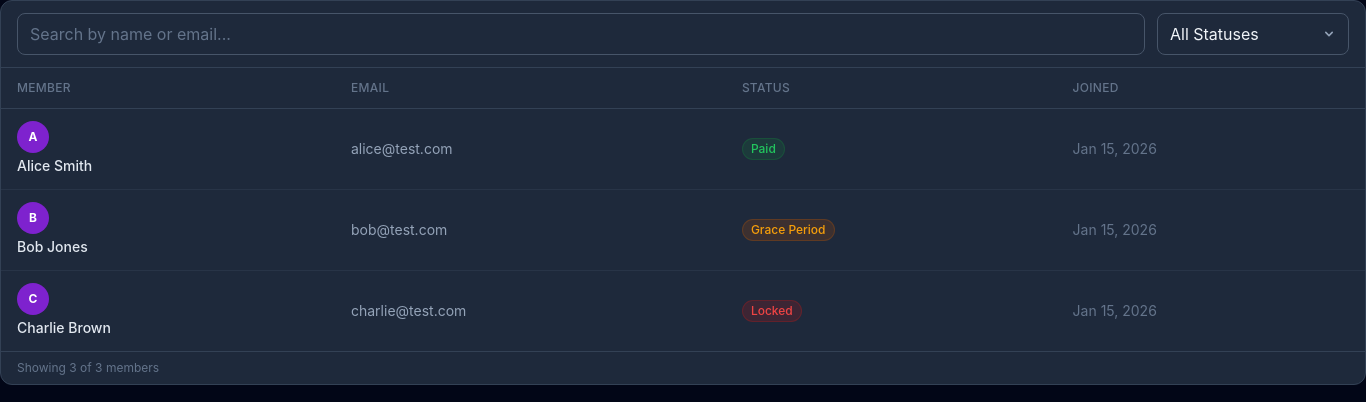
Scenario: MemberTable — translated strings › renders translated no-match state when search finds nothing
Type "zzzzz" into the field with placeholder "Search by name or email..." at (581, 34), box [17,13,1145,55]
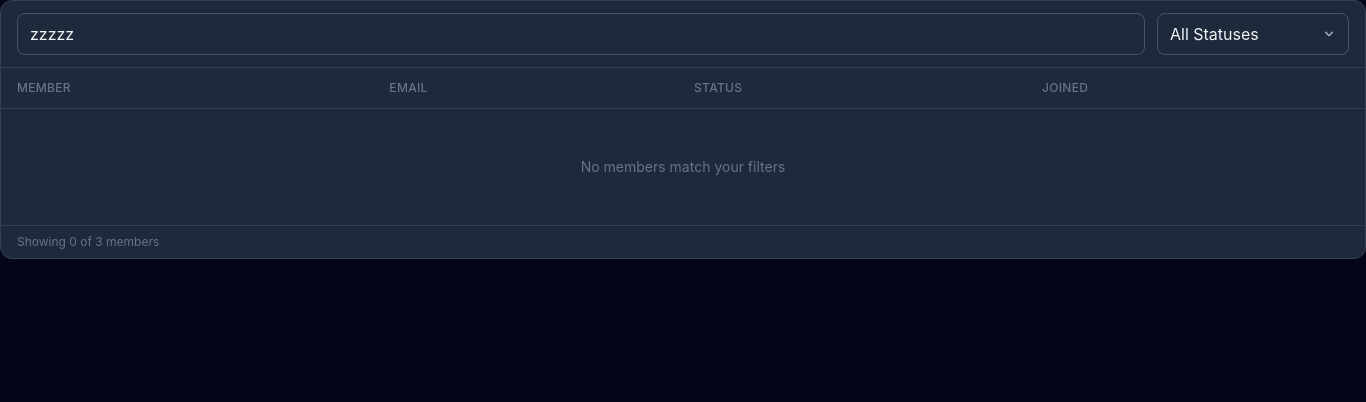
Expected: the text "No members match your filters" is shown, [581,158,785,175]
